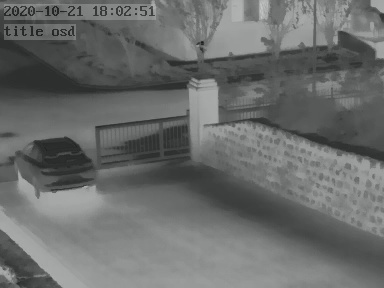vehicle: (8, 131, 96, 194)
